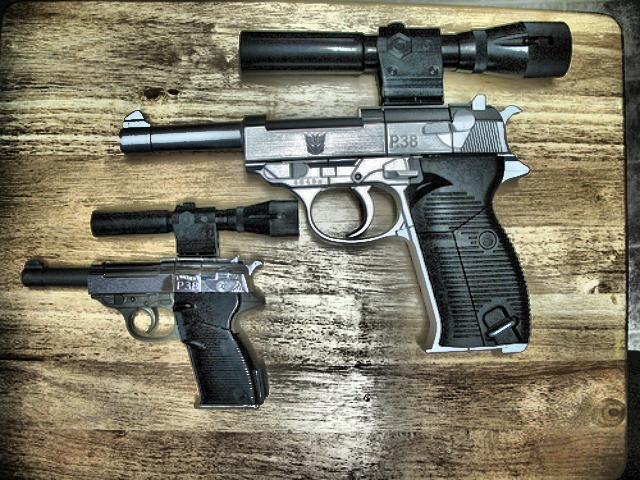pistol: (116, 93, 526, 354), (18, 253, 268, 406)
